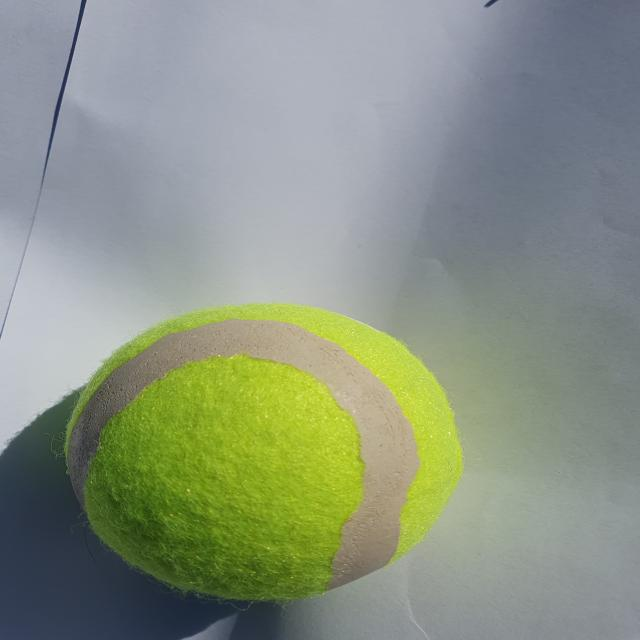green: (64, 302, 464, 602)
